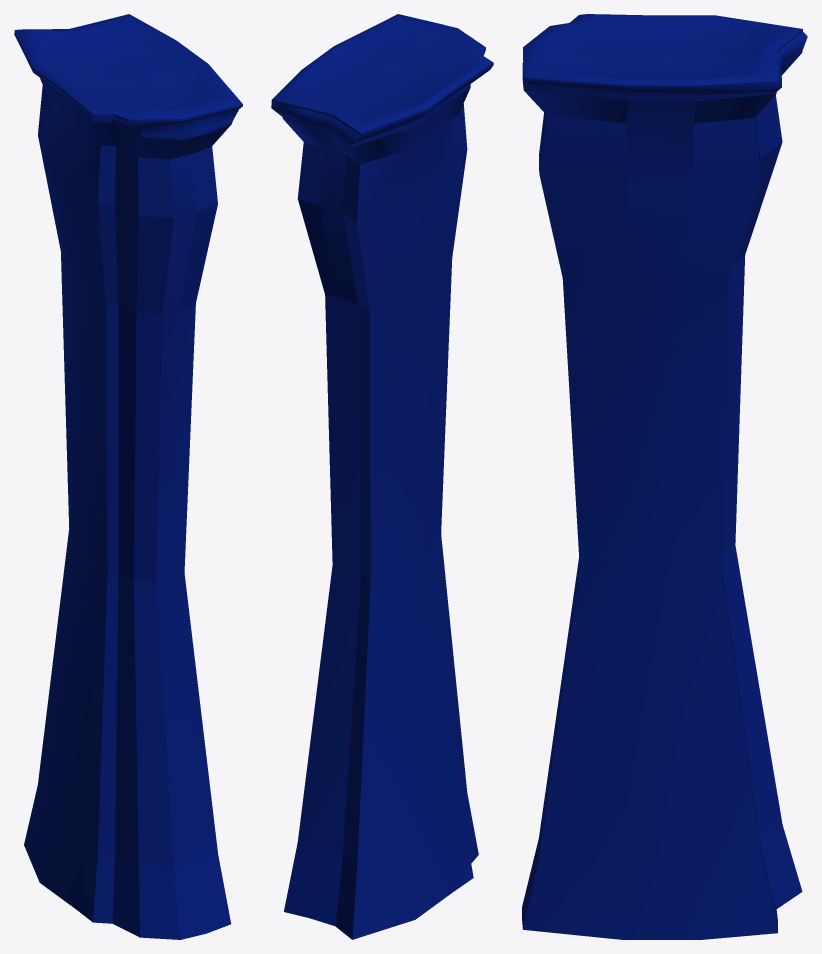
File: DungeonTall1.fbx
3 views of the same model, side by side, from view 1: azimuth 30°, elevation 25°; view 2: azimuth 150°, elevation 25°; view 3: azimuth 270°, elevation 25° (orthographic). The views are drawn at different scales.
Visible parts, largest first — view 1: DungeonTall1; view 2: DungeonTall1; view 3: DungeonTall1.
Part boxes in pixels (left/top/right/bottom): DungeonTall1: left=14, top=14, right=242, bottom=939; DungeonTall1: left=271, top=14, right=493, bottom=939; DungeonTall1: left=522, top=14, right=807, bottom=939.
Bounding box in the file's own units: 347 × 592 × 1978.
